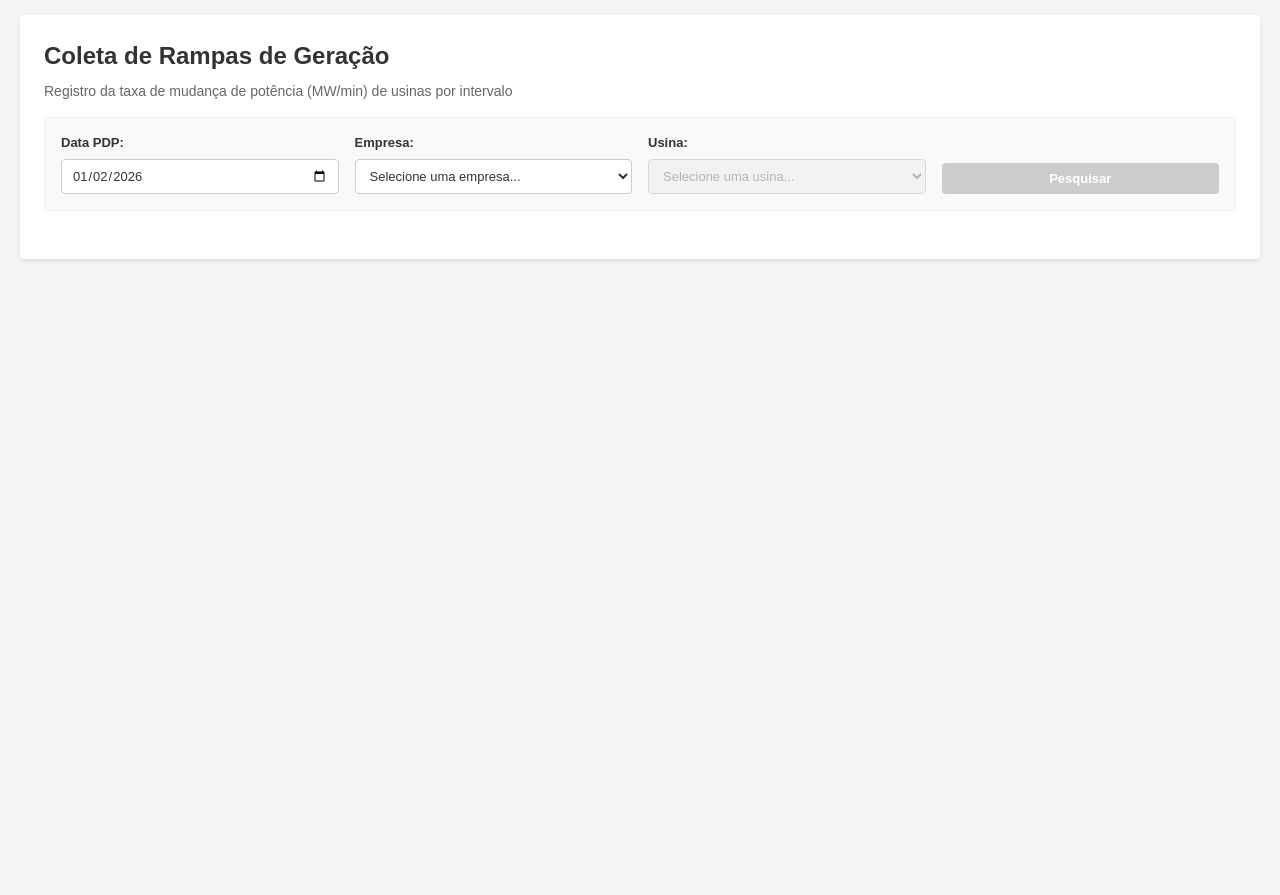
Test: Ramp Component › should show success message when saved
Setup and Search
Select "Empresa Geradora A" in the dropdown with test id "company-filter" at (493, 176), box [354,159,632,194]
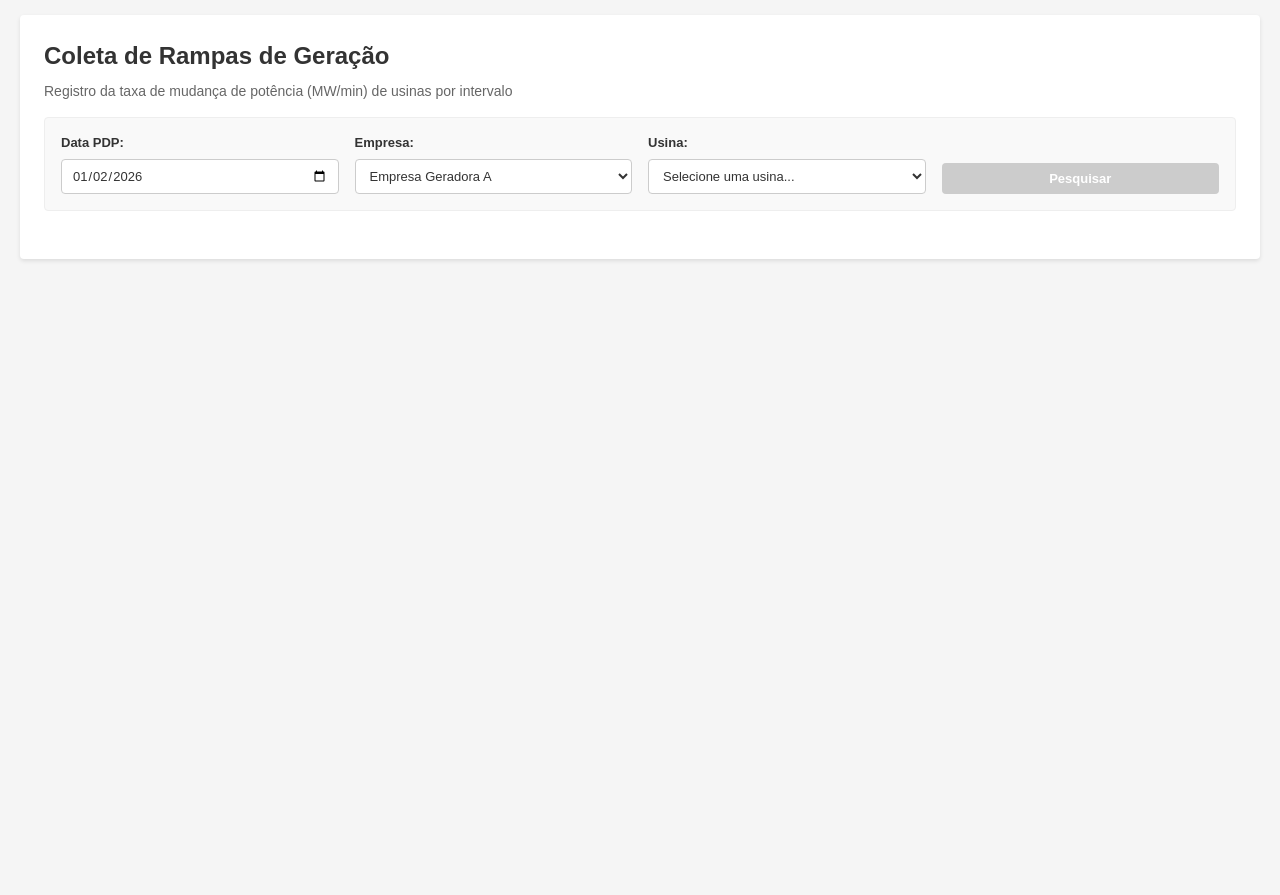
Check: the dropdown with test id "plant-filter" is enabled
Select "Usina Hidroelétrica 1" in the dropdown with test id "plant-filter" at (787, 176), box [648,159,926,194]
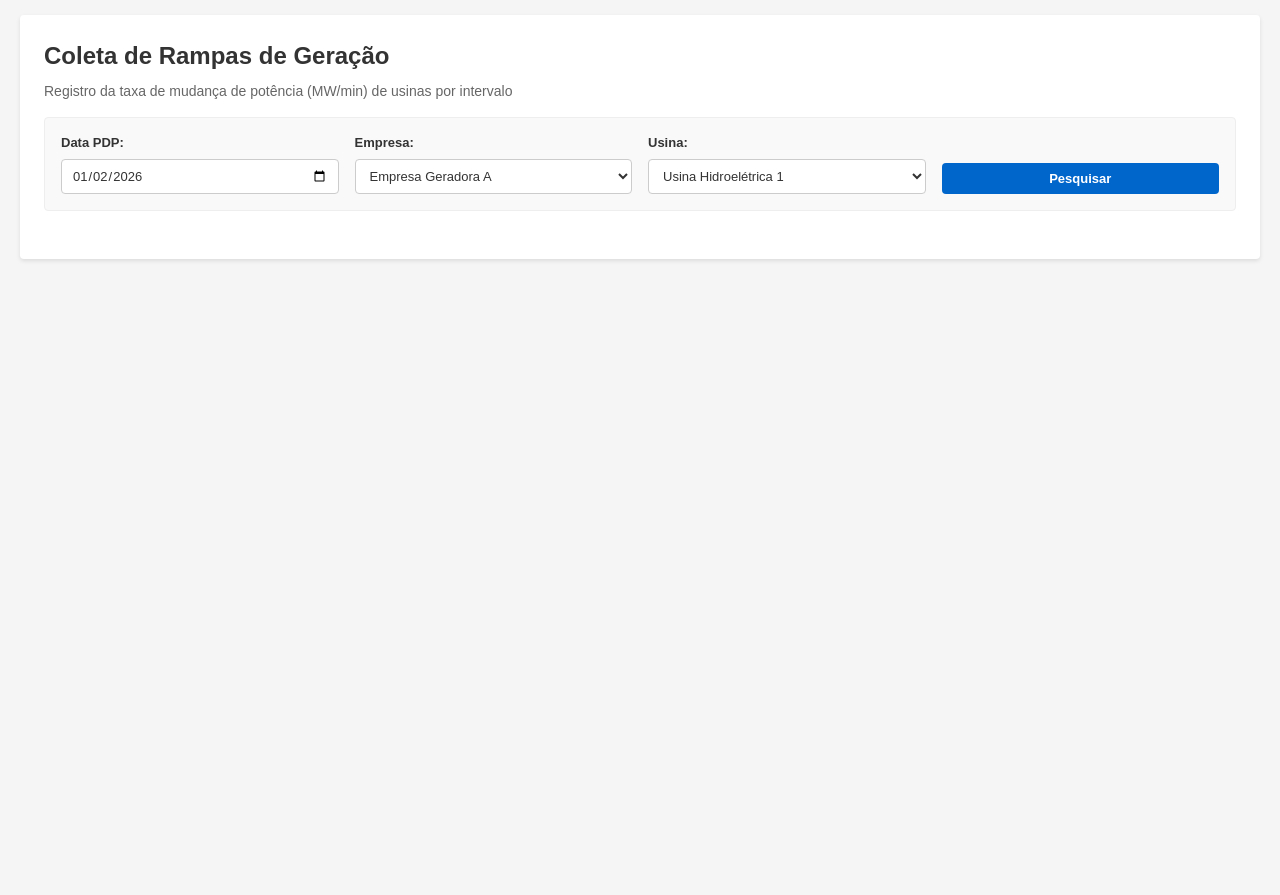
Click the button with test id "btn-search".
click(1080, 178)  # box [942,163,1219,194]
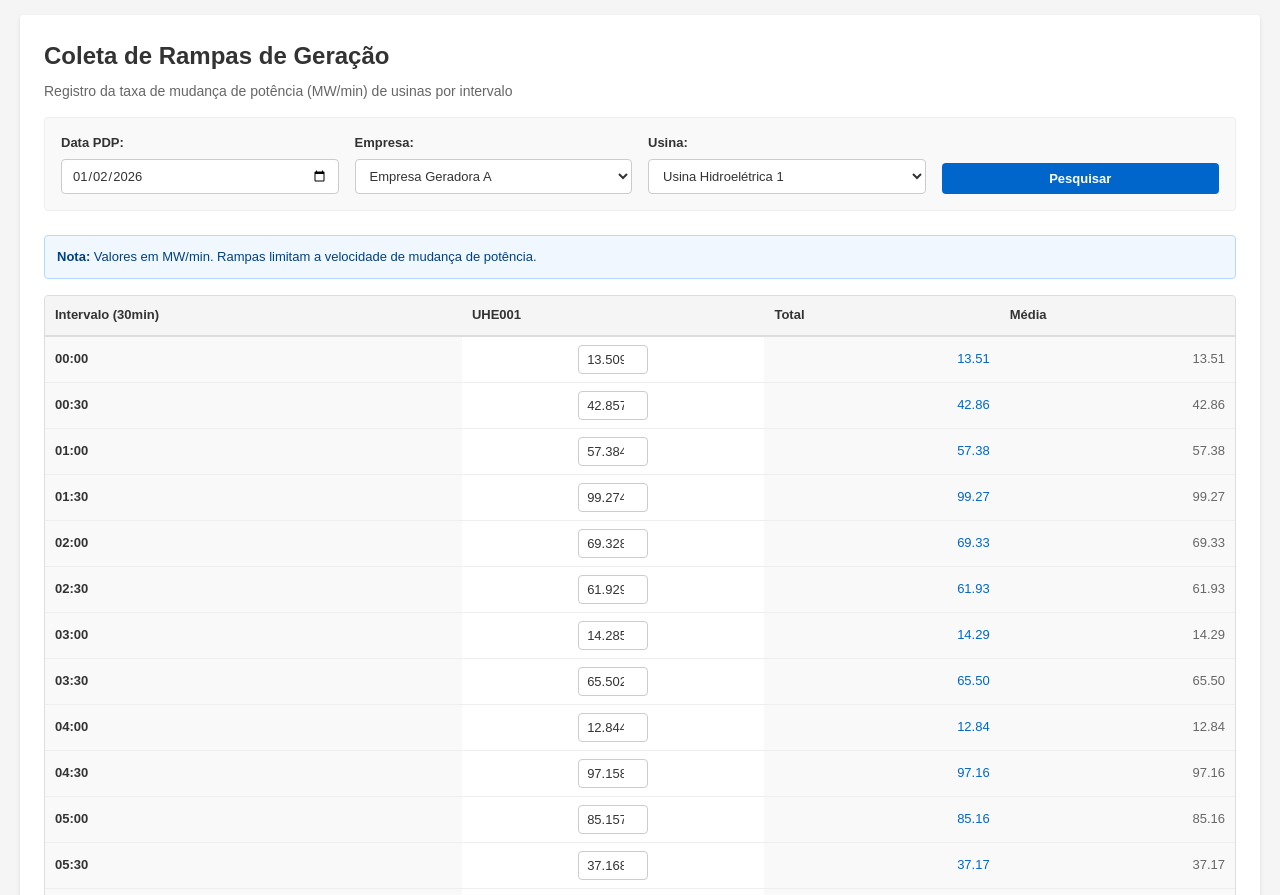
Modify data to enable save
Replace the text in the number field with test id "input-1-UHE001" with "50" at (613, 360), box [578,345,648,374]
(page scrolled)
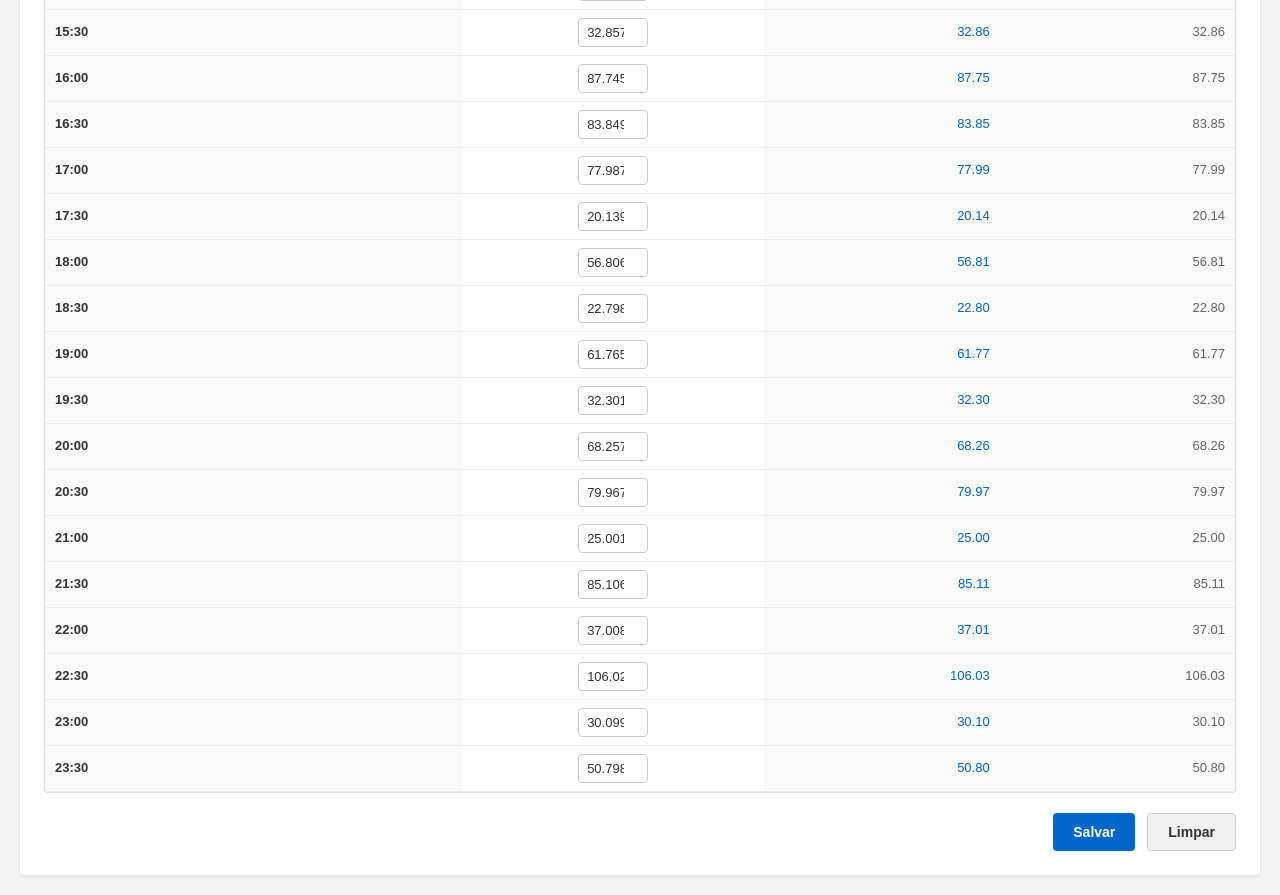
Click Save
Click the button with test id "btn-save".
click(1094, 832)  # box [1053,813,1135,851]
(page scrolled)
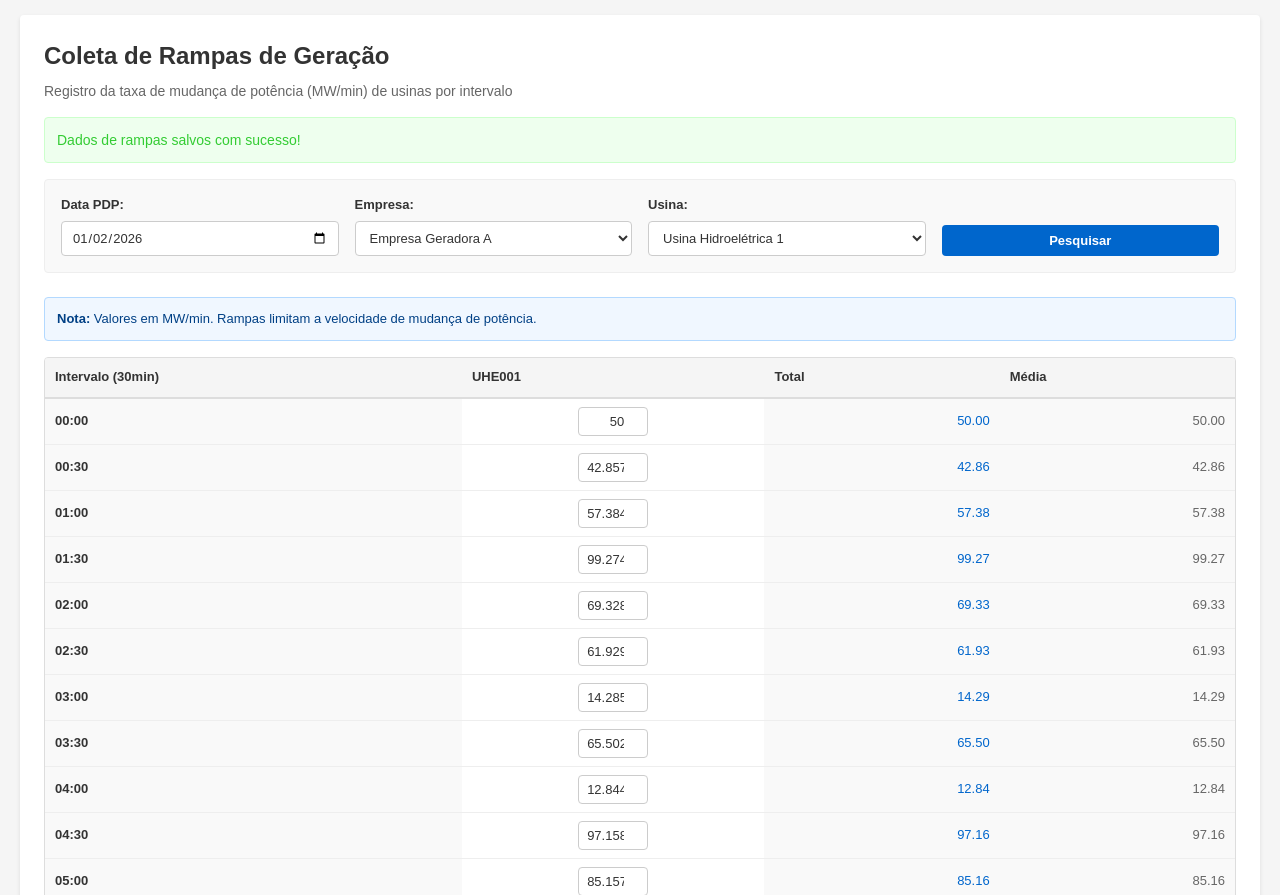
Check: the text with test id "success-message" reads "Dados de rampas salvos com sucesso!", box [57,132,301,148]
